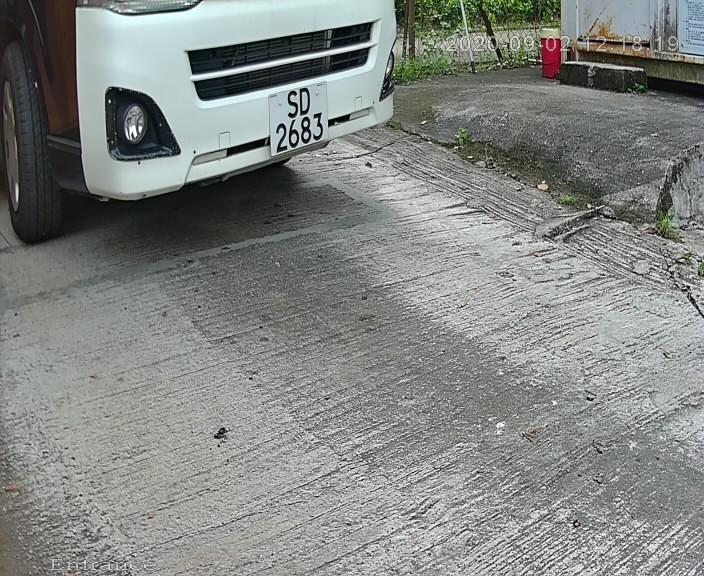Car: (32, 1, 428, 237)
License Plate: (252, 73, 334, 163)
